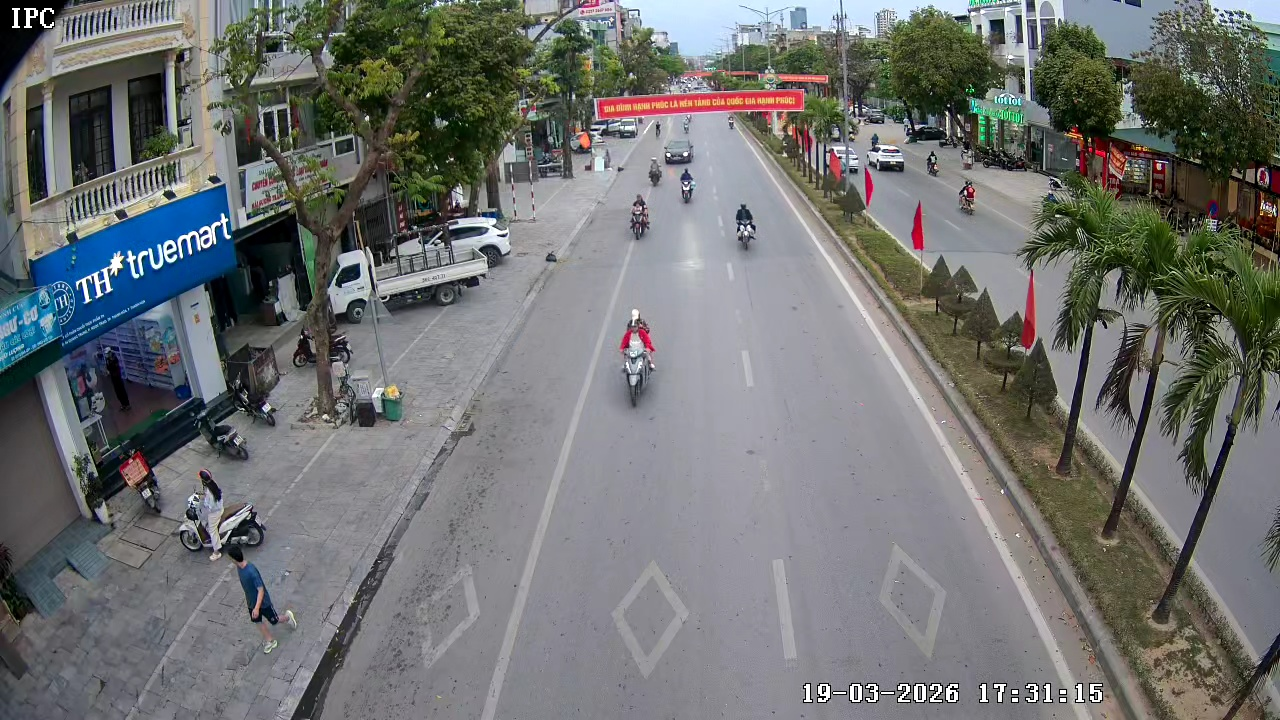car: (866, 141, 906, 173), (663, 137, 695, 163)
motorbike: (176, 466, 269, 562), (617, 308, 658, 408), (733, 200, 759, 252), (628, 191, 651, 242), (956, 175, 979, 216), (679, 165, 697, 205), (646, 157, 663, 187)
pedestrian: (225, 540, 295, 630)
